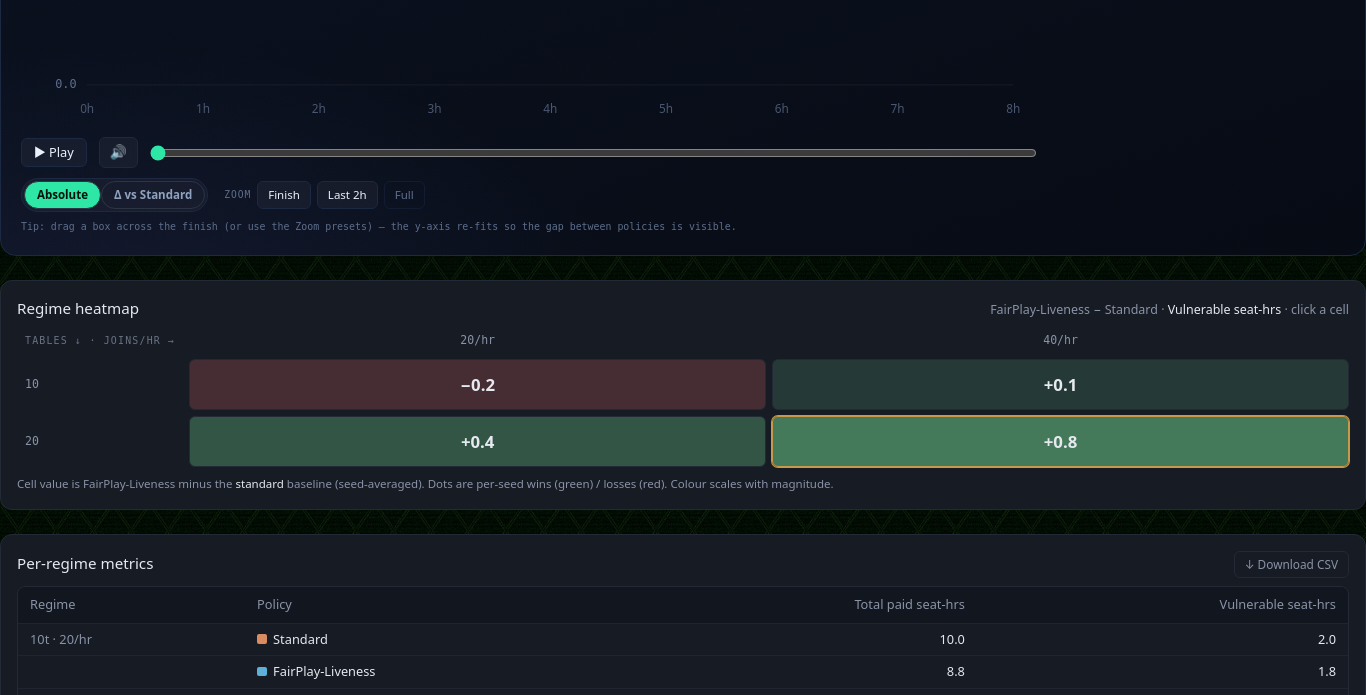
Test: DashboardView render › clicking a heatmap cell re-points the race to that regime and scrolls into view
(page scrolled)
Click the button titled "10 tables · 20/hr" at (478, 384), box [189,359,766,410]
(page scrolled)
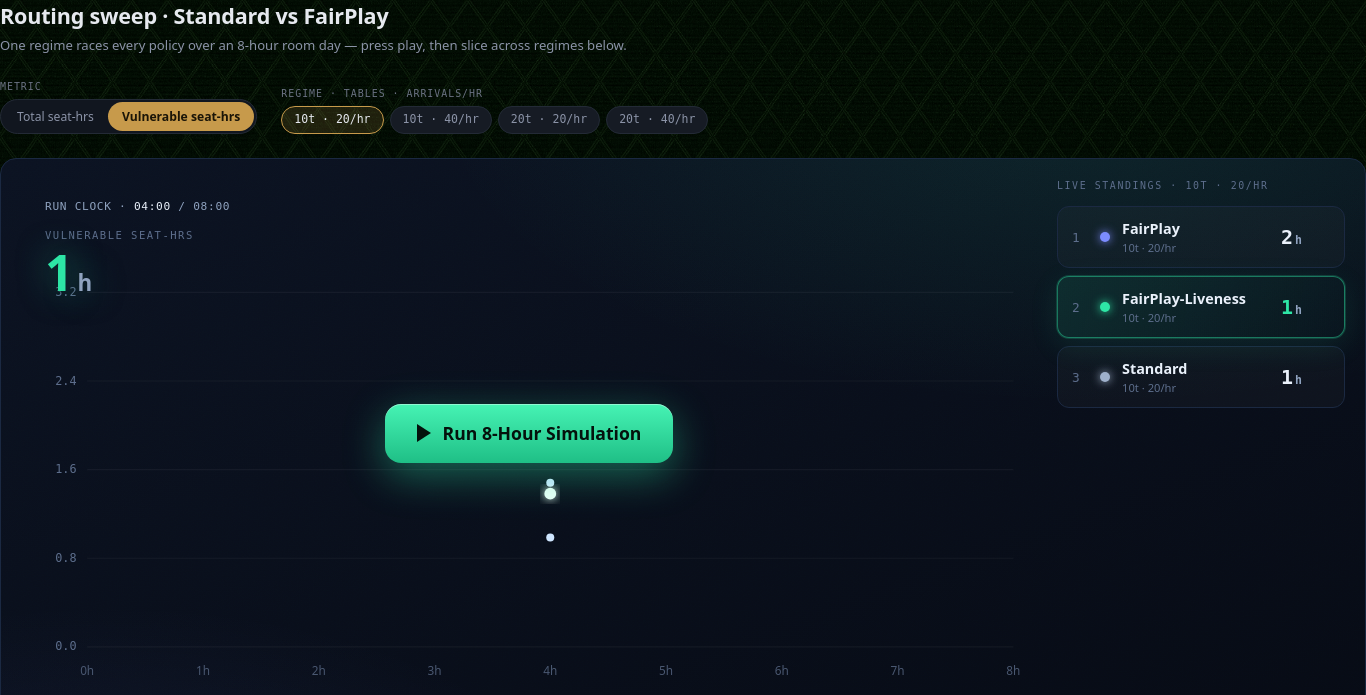
Expected: the text "Live standings · 10t · 20/hr" is shown, [1057,180,1268,191]
